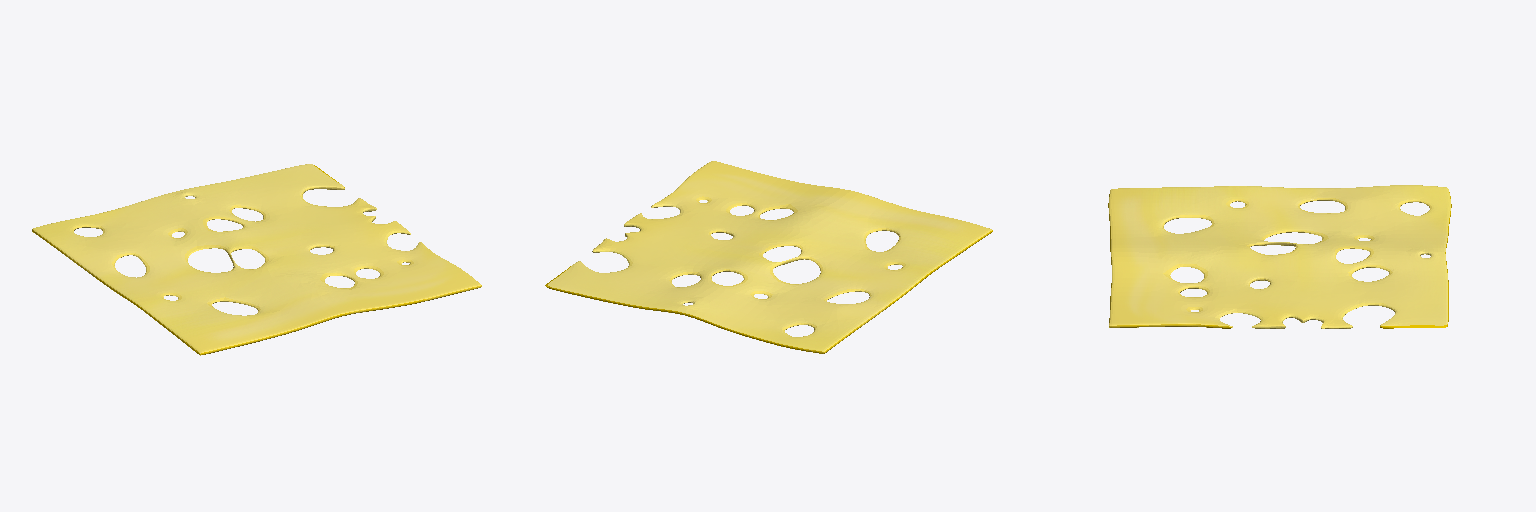
3 views of the same model, side by side, from view 1: azimuth 30°, elevation 25°; view 2: azimuth 150°, elevation 25°; view 3: azimuth 270°, elevation 25° (orthographic).
Parts seen in each view (by area): view 1: Plane; view 2: Plane; view 3: Plane.
Boxes of the visible parts, x1,y1,x2,y2 form: Plane: [32, 164, 481, 355]; Plane: [545, 161, 992, 353]; Plane: [1108, 185, 1451, 328].
Size of the model in its own units: 2.01 by 0.0693 by 2.1.
1 materials, 1 textured.